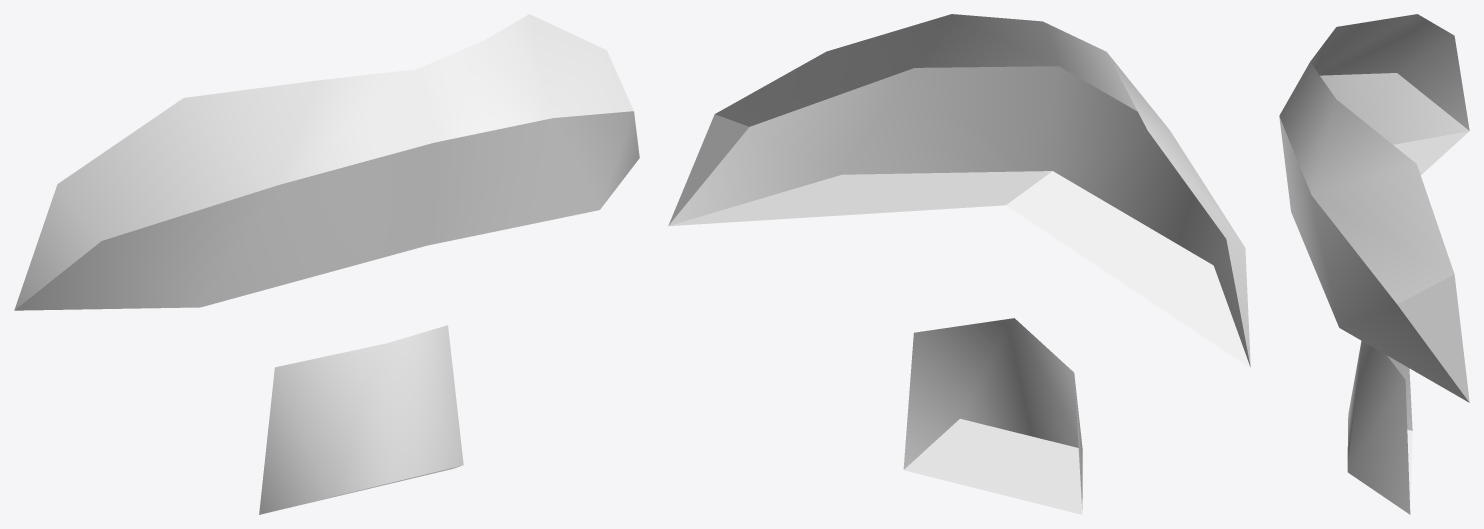
Rendered from Male_Mustache_02_v2.fbx.
The picture shows the model from 3 angles, left to right: view 1: azimuth 30°, elevation 25°; view 2: azimuth 150°, elevation 25°; view 3: azimuth 270°, elevation 25°; orthographic projection. The views are drawn at different scales.
Visible parts, largest first — view 1: Male_Mustache_02_v2; view 2: Male_Mustache_02_v2; view 3: Male_Mustache_02_v2.
Boxes of the visible parts, bbox=[...] form: Male_Mustache_02_v2: bbox=[14, 14, 639, 514]; Male_Mustache_02_v2: bbox=[668, 14, 1250, 514]; Male_Mustache_02_v2: bbox=[1279, 14, 1469, 514].
Bounding box in the file's own units: 22.73 × 16.09 × 6.73.
